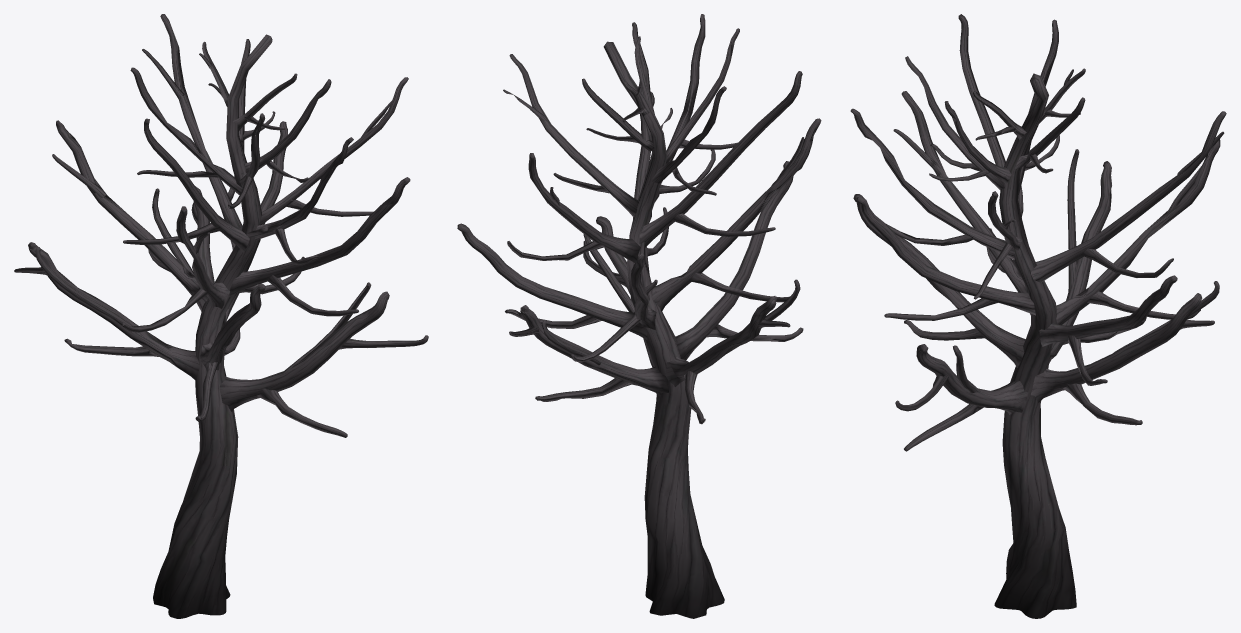
The model's file is DeadTree_1.glb.
The picture shows the model from 3 angles, left to right: view 1: azimuth 30°, elevation 25°; view 2: azimuth 150°, elevation 25°; view 3: azimuth 270°, elevation 25°; orthographic projection. The views are drawn at different scales.
Parts seen in each view (by area): view 1: DeadTree_1; view 2: DeadTree_1; view 3: DeadTree_1.
Boxes of the visible parts, left/top/right/bottom form: DeadTree_1: left=14, top=14, right=428, bottom=618; DeadTree_1: left=457, top=14, right=821, bottom=618; DeadTree_1: left=850, top=14, right=1226, bottom=618.
Size of the model in its own units: 6.15 by 9.5 by 5.75.
Materials: 1 (1 with a texture image).
